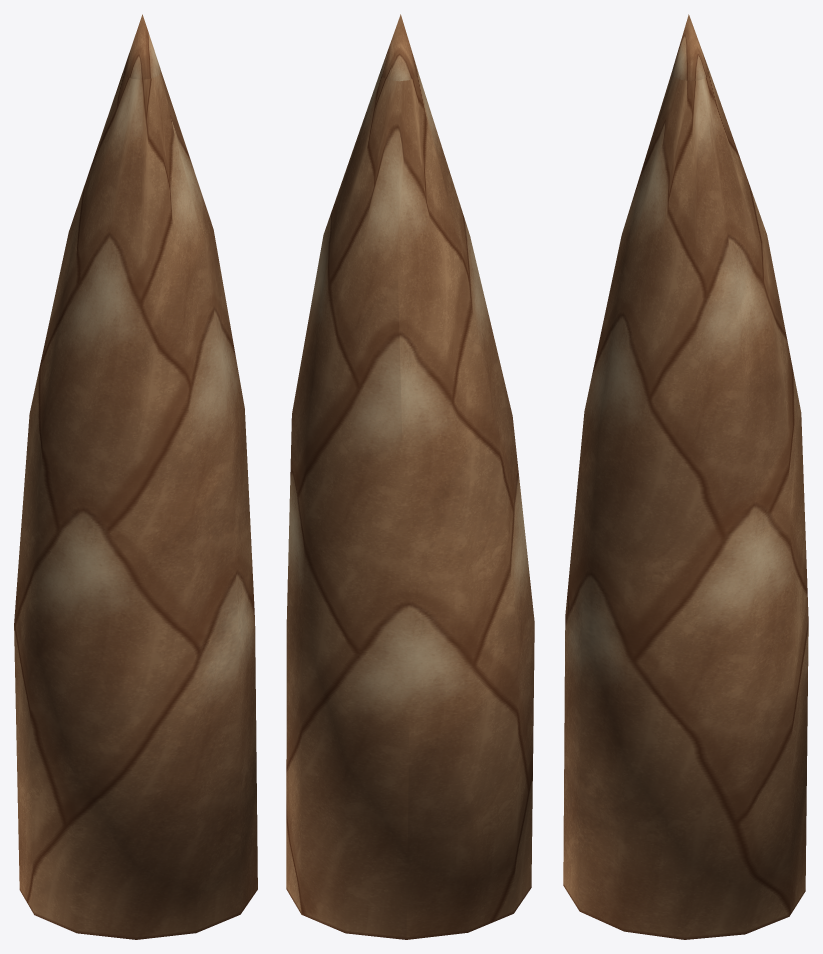
The model's file is Model_GuaduaBaby.fbx.
3 views of the same model, side by side, from view 1: azimuth 30°, elevation 25°; view 2: azimuth 150°, elevation 25°; view 3: azimuth 270°, elevation 25° (orthographic).
Parts seen in each view (by area): view 1: GuaduaBebé; view 2: GuaduaBebé; view 3: GuaduaBebé.
Part boxes in pixels (box(x1,y1,x2,y2)): GuaduaBebé: box(14, 14, 257, 939); GuaduaBebé: box(286, 14, 534, 939); GuaduaBebé: box(563, 14, 808, 939).
Bounding box in the file's own units: 1.03 × 4.04 × 1.02.
